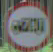Heavy Vehicles: (5, 2, 49, 51)
